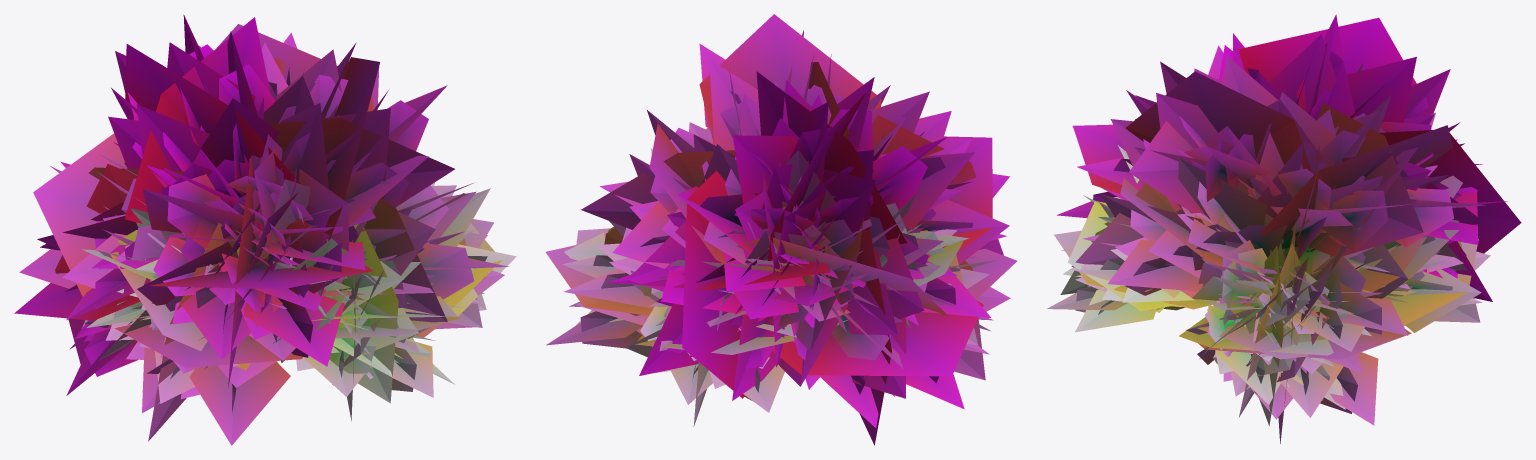
The model's file is filber_tree_10.FBX.
The picture shows the model from 3 angles, left to right: view 1: azimuth 30°, elevation 25°; view 2: azimuth 150°, elevation 25°; view 3: azimuth 270°, elevation 25°; orthographic projection. The views are drawn at different scales.
Parts seen in each view (by area): view 1: filbert_leaves_lod_0, filbert_leaves_shadow; view 2: filbert_leaves_lod_0, filbert_leaves_shadow; view 3: filbert_leaves_lod_0, filbert_leaves_shadow.
Boxes of the visible parts, x1=… form: filbert_leaves_lod_0: x1=19, y1=14, x2=516, y2=445; filbert_leaves_shadow: x1=14, y1=17, x2=501, y2=441; filbert_leaves_lod_0: x1=546, y1=30, x2=1010, y2=427; filbert_leaves_shadow: x1=545, y1=14, x2=1017, y2=445; filbert_leaves_lod_0: x1=1047, y1=14, x2=1507, y2=425; filbert_leaves_shadow: x1=1054, y1=17, x2=1521, y2=443.
Size of what is drawn, in the model's own units: 10.32 by 7.69 by 10.47.
